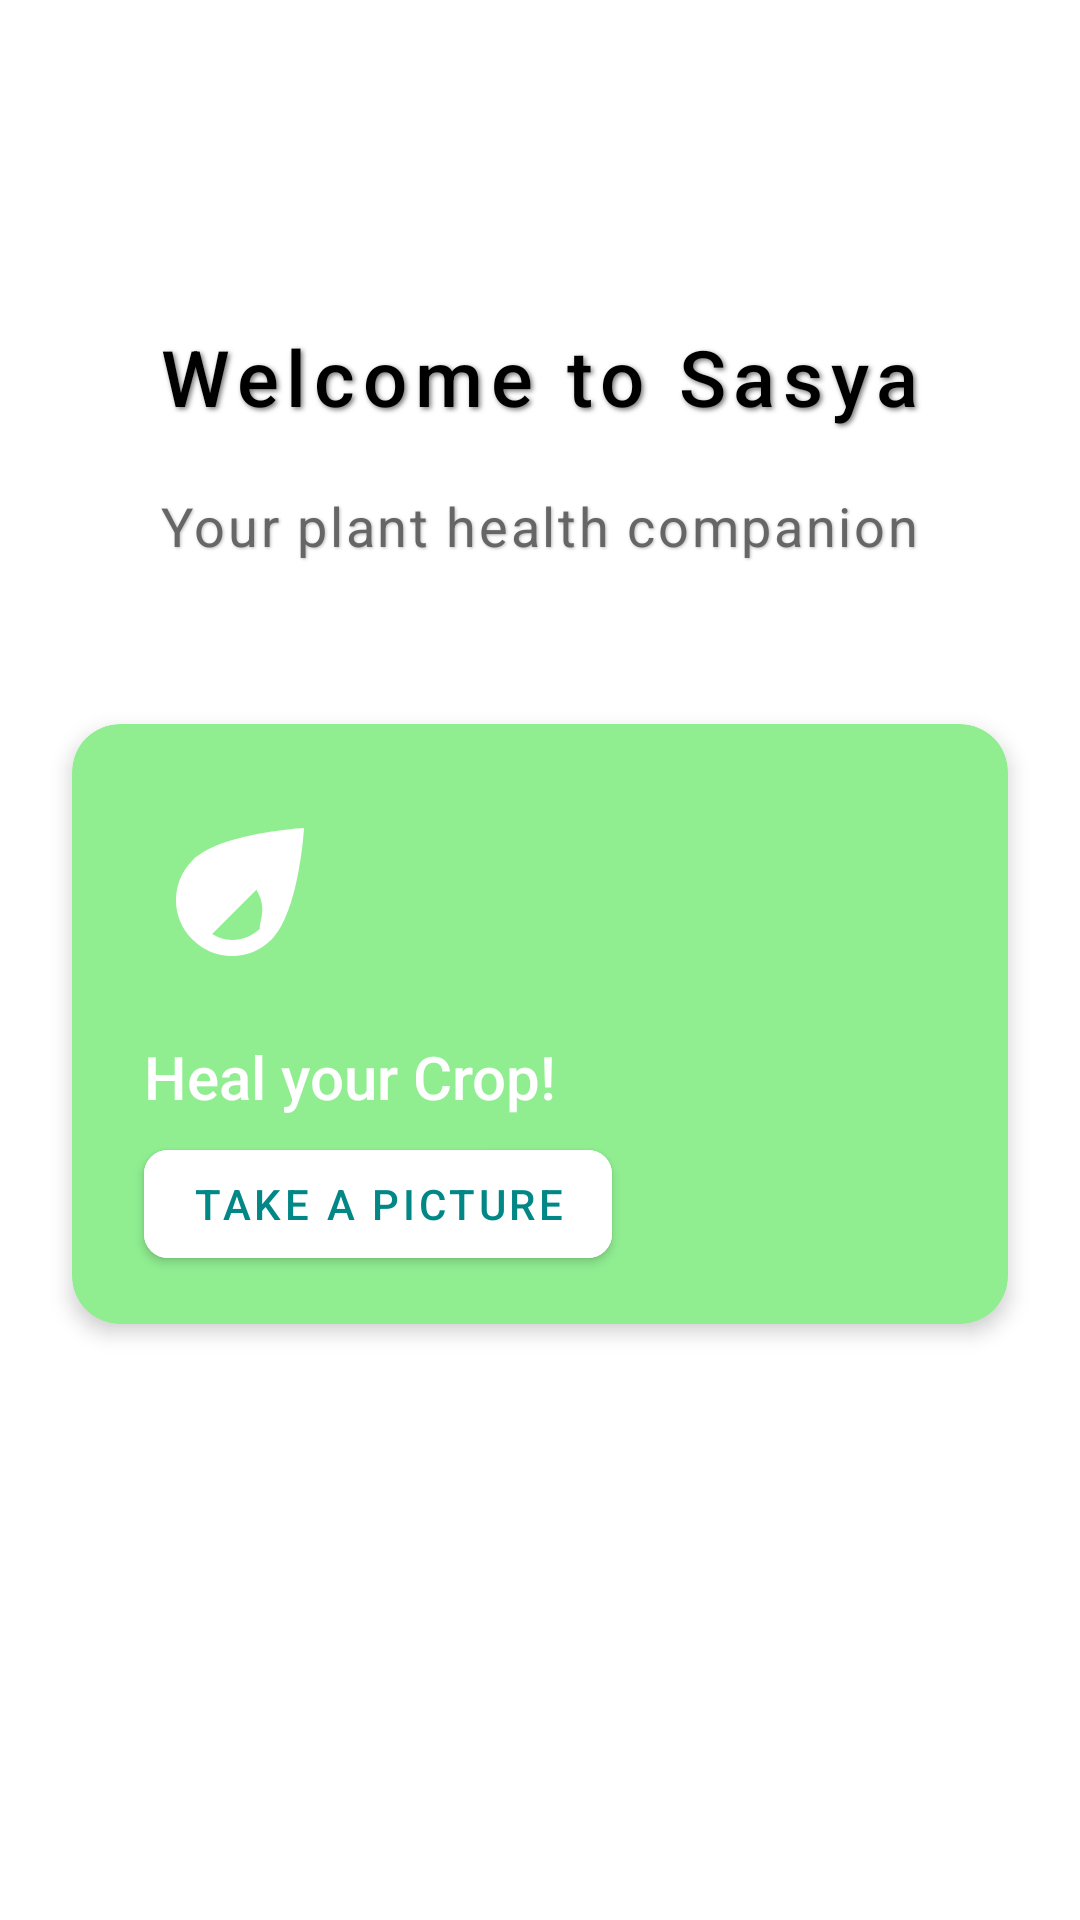

Icons on this 1080px x 1920px Android screen, each with its box as rect(x1, y1, x2, y2):
scan leaf: rect(176, 828, 304, 956)
